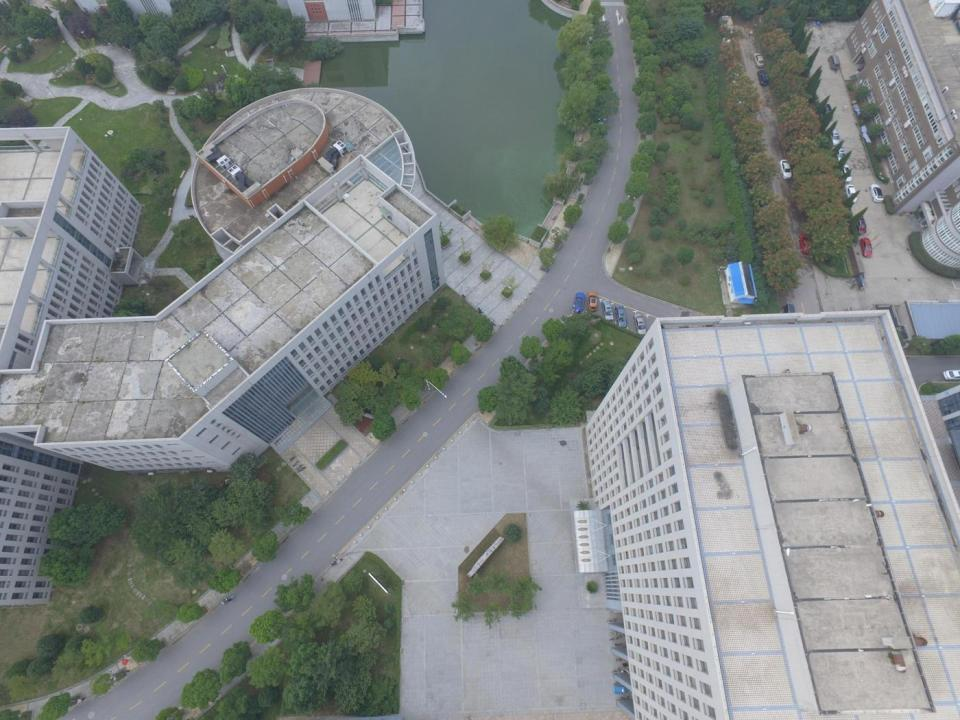car: (614, 304, 627, 328), (633, 313, 647, 335), (859, 237, 873, 258), (778, 159, 792, 180), (571, 292, 585, 313), (798, 234, 812, 254), (601, 300, 614, 321), (869, 184, 884, 202), (733, 90, 745, 110), (844, 184, 857, 202), (856, 215, 867, 235), (587, 291, 597, 312), (841, 164, 852, 183), (756, 70, 769, 86), (943, 369, 960, 380), (830, 128, 840, 146), (752, 53, 764, 68), (731, 70, 742, 85), (822, 104, 832, 120), (837, 147, 846, 164), (722, 37, 732, 51)
truck: (719, 16, 735, 36)
van: (782, 304, 795, 317), (828, 55, 840, 69)
